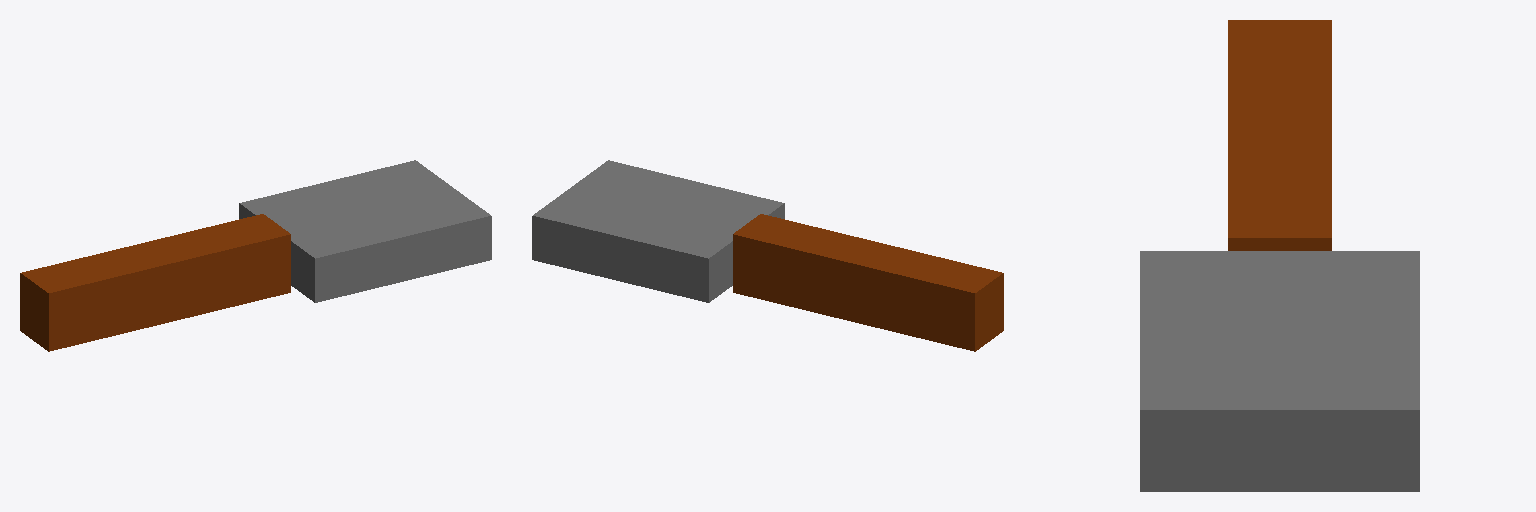
URDF robot description (handle_head):
<?xml version="1.0"?>
<robot name="handle_head">

  <link name="handle_head">
    <!-- Handle -->
    <visual>
              <origin xyz="0 0 0" rpy="0 0 0"/>
        <geometry>
          <box size="0.10277179330871872 0.020646449282318964 0.023629413154077628"/>
        </geometry>
        
      <material name="brown">
        <color rgba="0.55 0.27 0.07 1.0"/>
      </material>
    </visual>
    <collision>
              <origin xyz="0 0 0" rpy="0 0 0"/>
        <geometry>
          <box size="0.10277179330871872 0.020646449282318964 0.023629413154077628"/>
        </geometry>
        
    </collision>

    <!-- Head -->
    <visual>
              <origin xyz="0.08872227625913322 0 0" rpy="0 0 0"/>
        <geometry>
          <box size="0.07467275920954772 0.05561690007780553 0.018002070275293307"/>
        </geometry>
        
      <material name="gray">
        <color rgba="0.5 0.5 0.5 1.0"/>
      </material>
    </visual>
    <collision>
              <origin xyz="0.08872227625913322 0 0" rpy="0 0 0"/>
        <geometry>
          <box size="0.07467275920954772 0.05561690007780553 0.018002070275293307"/>
        </geometry>
        
    </collision>

    <inertial>
      <origin xyz="0.055787302245597796 0 0" rpy="0 0 0"/>
      <mass value="0.05424553246770275"/>
      <inertia ixx="1.1365638045407145e-05" iyy="0.00013509932901317468" izz="0.00014274878086054487" ixy="0" ixz="0" iyz="0"/>
    </inertial>
  </link>

</robot>

--- Render facts (derived) ---
3 views of the same robot in one strip: view 1: azimuth 30°, elevation 25°; view 2: azimuth 150°, elevation 25°; view 3: azimuth 270°, elevation 25° (orthographic).
Model handle_head with 1 links and 0 joints (none), rooted at handle_head, posed all joints at 0.
Visible links, largest first — view 1: handle_head; view 2: handle_head; view 3: handle_head.
Boxes of the visible links, bbox=[...] form: handle_head: bbox=[20, 160, 491, 351]; handle_head: bbox=[532, 160, 1003, 351]; handle_head: bbox=[1140, 20, 1419, 491].
Size in the robot's own frame: 0.1774 by 0.0556 by 0.0236 metres.
Geometry: primitives only (box / cylinder / sphere), no mesh files.
